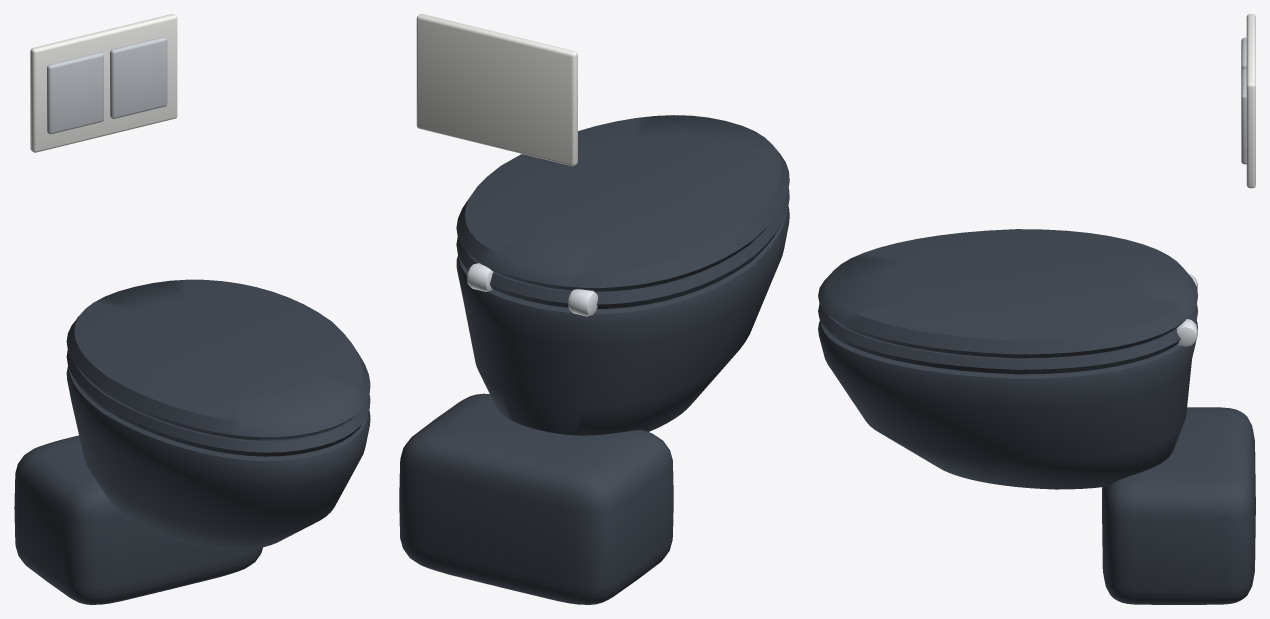
File: vaso_suspenso_grafite.glb
3 views of the same model, side by side, from view 1: azimuth 30°, elevation 25°; view 2: azimuth 150°, elevation 25°; view 3: azimuth 270°, elevation 25° (orthographic). The views are drawn at different scales.
Visible parts, largest first — view 1: vaso_suspenso_grafite, tampa, assento; view 2: vaso_suspenso_grafite, tampa, assento; view 3: vaso_suspenso_grafite, tampa, assento.
Boxes of the visible parts, x1,y1,x2,y2 form: vaso_suspenso_grafite: [14, 14, 370, 604]; tampa: [66, 279, 370, 440]; assento: [66, 349, 370, 456]; vaso_suspenso_grafite: [399, 14, 789, 604]; tampa: [456, 115, 789, 291]; assento: [456, 188, 789, 308]; vaso_suspenso_grafite: [818, 14, 1255, 604]; tampa: [818, 229, 1197, 358]; assento: [818, 304, 1197, 374].
Bounding box in the file's own units: 0.36 × 0.745 × 0.5685.
Materials: 1 (1 with a texture image).
